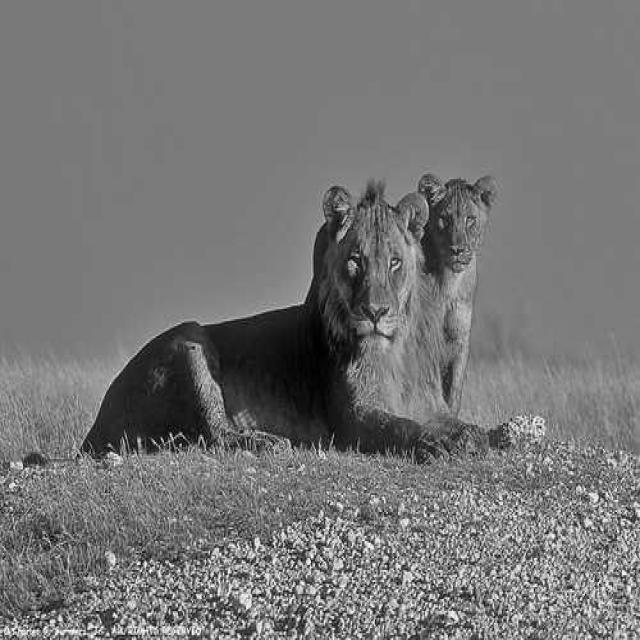Lion: (201, 133, 438, 457), (415, 142, 512, 324)
